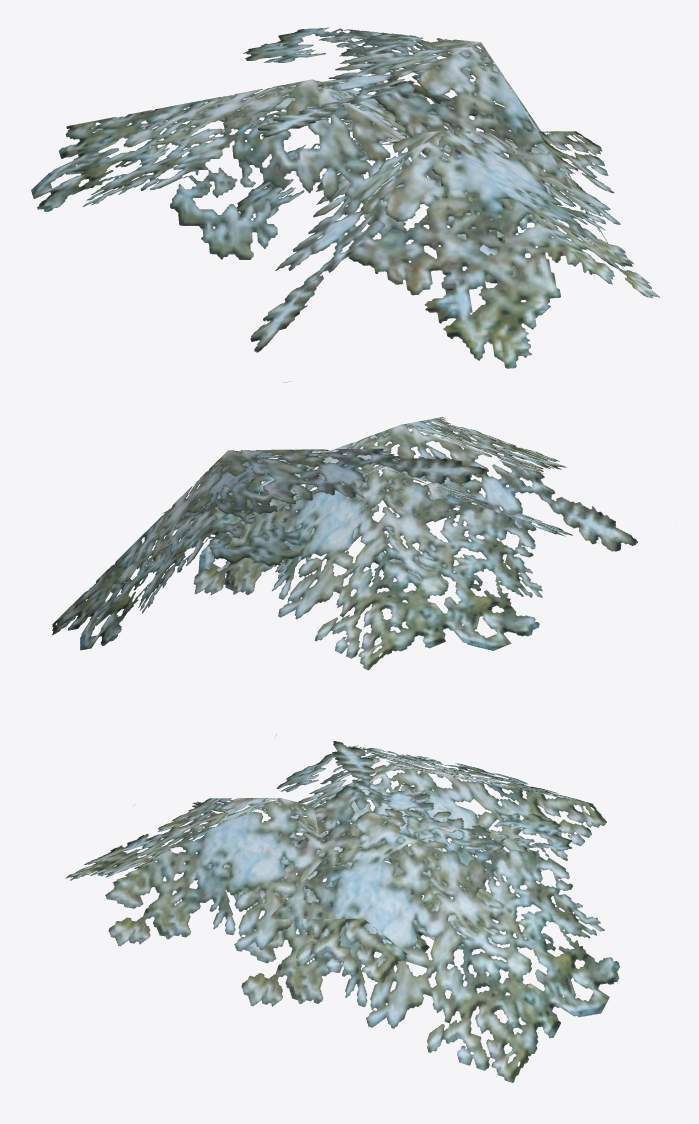
File: Ice_glass04.FBX
3 views of the same model, one above another, from view 1: azimuth 30°, elevation 25°; view 2: azimuth 150°, elevation 25°; view 3: azimuth 270°, elevation 25° (orthographic). The views are drawn at different scales.
Visible parts, largest first — view 1: Plane015; view 2: Plane015; view 3: Plane015.
Part boxes in pixels (bbox=[...]): Plane015: bbox=[31, 27, 659, 382]; Plane015: bbox=[52, 417, 637, 670]; Plane015: bbox=[65, 734, 619, 1082].
Bounding box in the file's own units: 963 × 356 × 1062.
